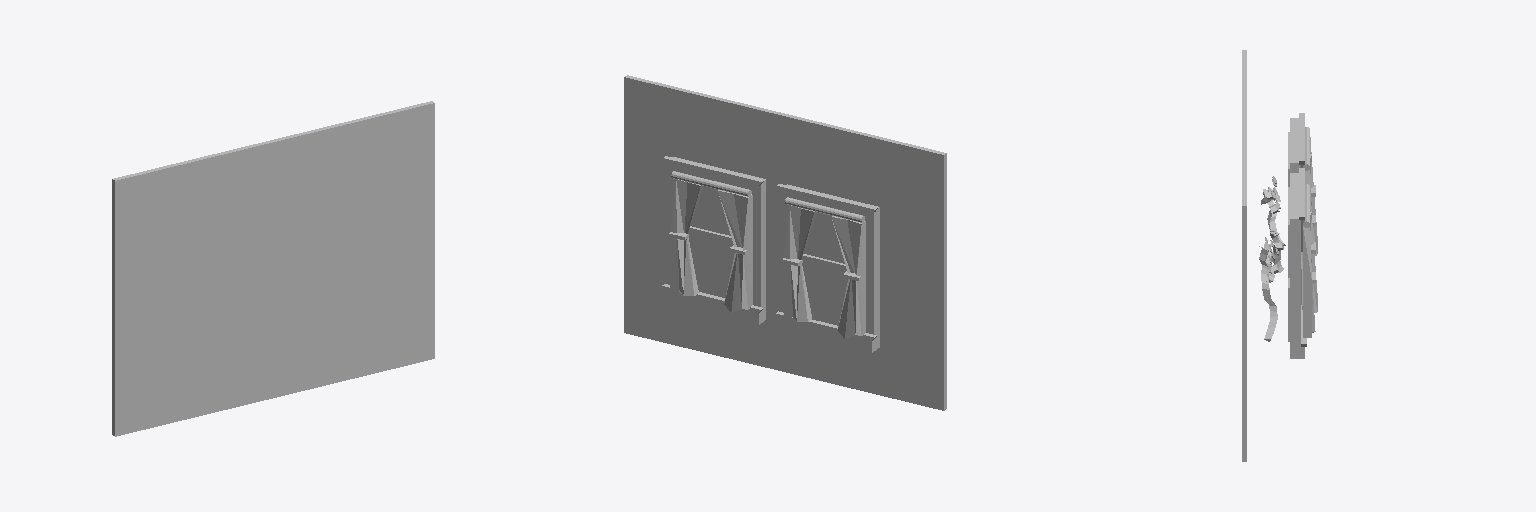
3 renders of one model, left to right at view 1: azimuth 30°, elevation 25°; view 2: azimuth 150°, elevation 25°; view 3: azimuth 270°, elevation 25°, orthographic.
Parts seen in each view (by area): view 1: group[number redacted]; view 2: group[number redacted], group[number redacted], group[number redacted], group[number redacted], group[number redacted]; view 3: group[number redacted], group[number redacted], group[number redacted], group[number redacted], group[number redacted], group[number redacted].
Part boxes in pixels (left/top/right/bottom): group[number redacted]: left=112, top=101, right=434, bottom=436; group[number redacted]: left=624, top=75, right=946, bottom=410; group[number redacted]: left=776, top=184, right=879, bottom=352; group[number redacted]: left=662, top=156, right=765, bottom=324; group[number redacted]: left=669, top=171, right=752, bottom=312; group[number redacted]: left=782, top=197, right=865, bottom=338; group[number redacted]: left=1288, top=168, right=1306, bottom=358; group[number redacted]: left=1242, top=50, right=1246, bottom=461; group[number redacted]: left=1301, top=184, right=1317, bottom=337; group[number redacted]: left=1288, top=113, right=1304, bottom=186; group[number redacted]: left=1301, top=127, right=1317, bottom=255; group[number redacted]: left=1261, top=242, right=1277, bottom=341.
Size of the model in its own units: 2 by 1.53 by 0.4121.